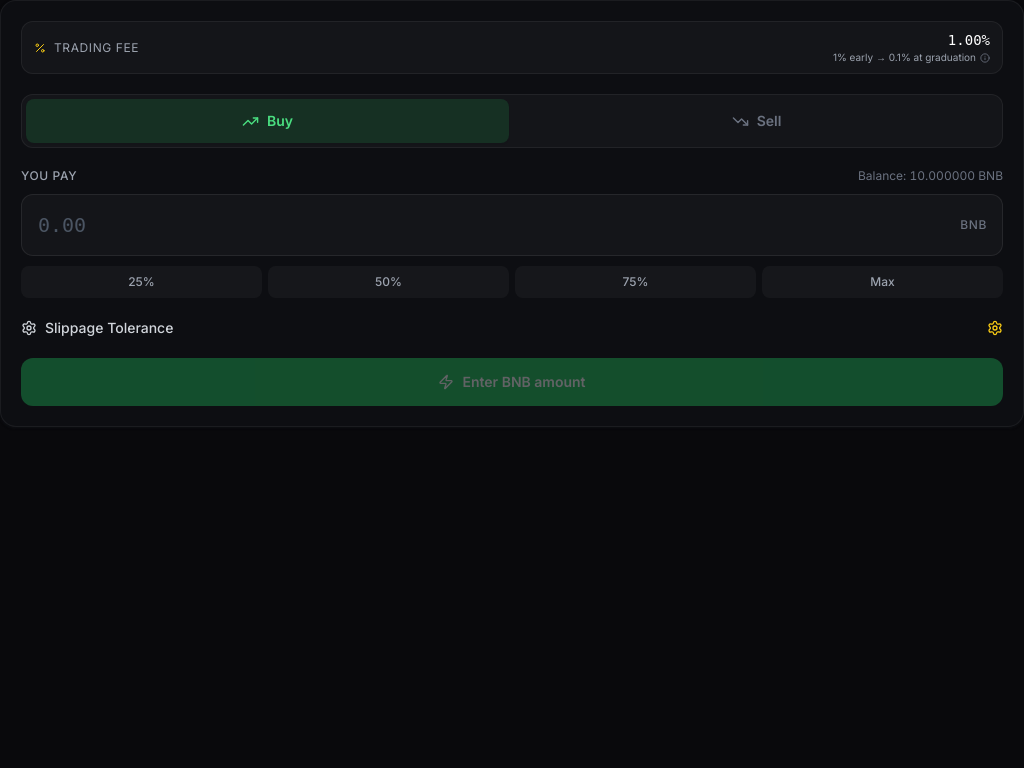
Scenario: TradingInterface › Trade Calculations › should display expected output after fetching quote
Type "1" into the number field with placeholder "0.00". click: (512, 225)
box: 21,194 -> 1003,256
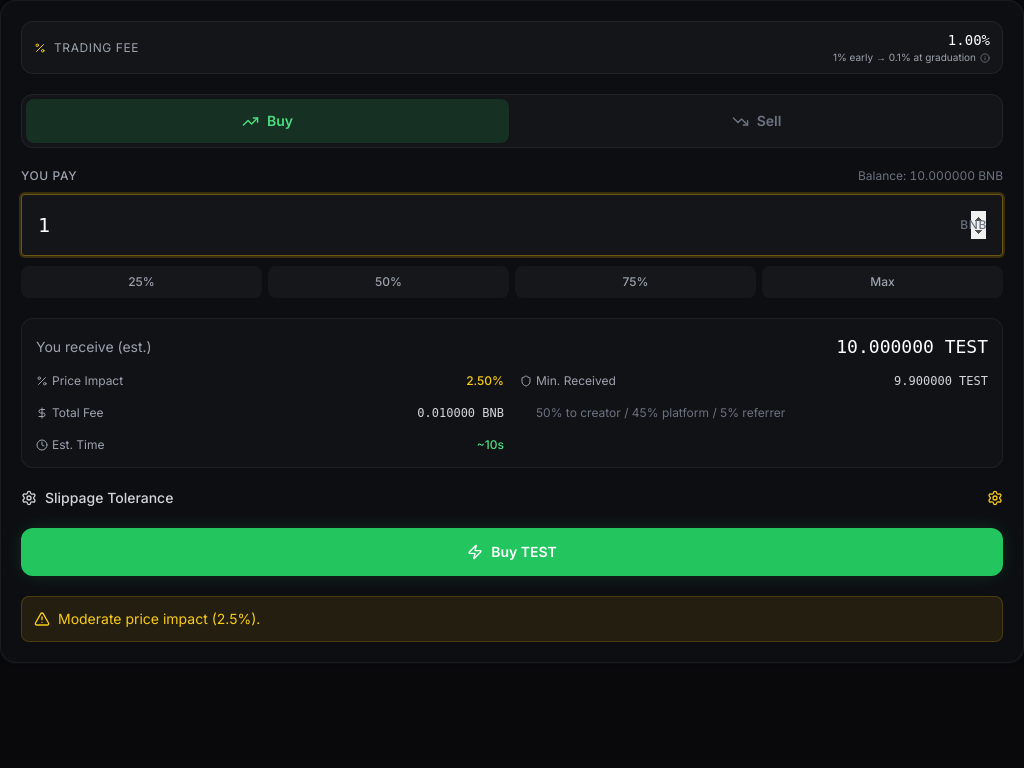
Now the text "You receive (est.)" is shown, box 36,337 -> 152,357
Now the text "10.000000 TEST" is shown, box 836,333 -> 988,361
